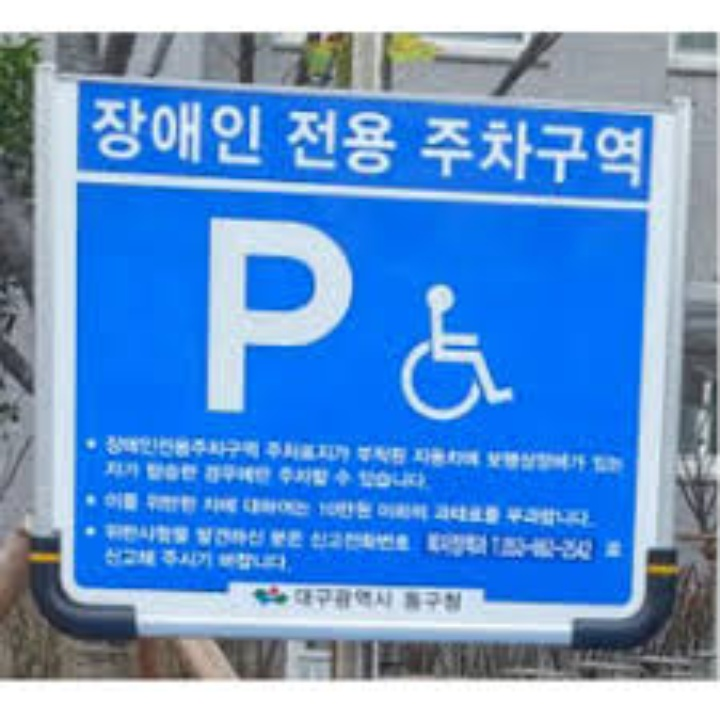parking: (203, 212, 359, 420)
